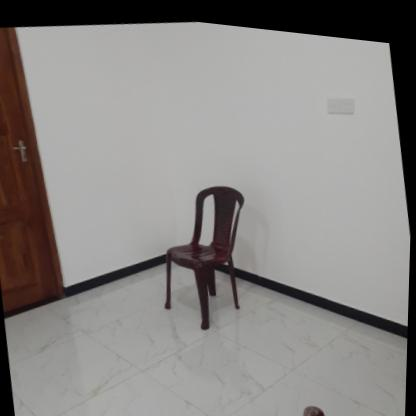Ceramic floor: (6, 260, 409, 416)
Chair: (150, 171, 262, 336)
